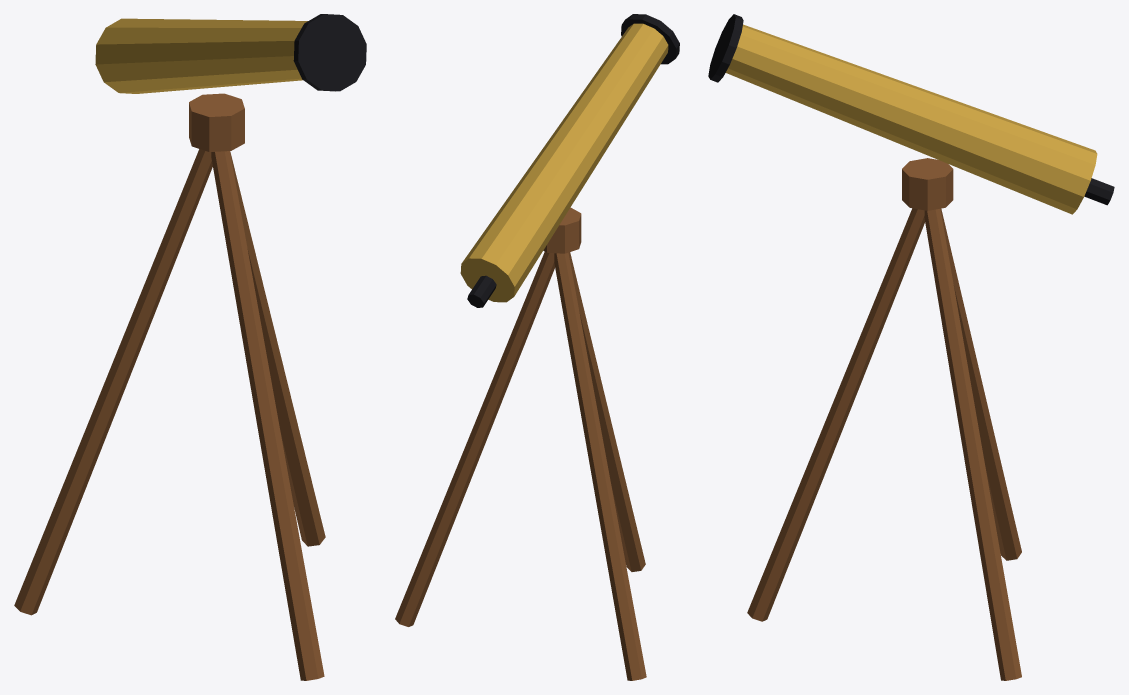
The model's file is spy_telescope.glb.
3 renders of one model, left to right at view 1: azimuth 30°, elevation 25°; view 2: azimuth 150°, elevation 25°; view 3: azimuth 270°, elevation 25°, orthographic. The views are drawn at different scales.
Visible parts, largest first — view 1: tripod_tripod_wood, tube_scope_brass, lens_scope_lens, head_tripod_wood; view 2: tripod_tripod_wood, tube_scope_brass, head_tripod_wood, lens_scope_lens, eyepiece_scope_lens; view 3: tube_scope_brass, tripod_tripod_wood, head_tripod_wood, lens_scope_lens.
Boxes of the visible parts, box(x1,y1,x2,y2) form: tripod_tripod_wood: box(14, 149, 325, 680); tube_scope_brass: box(95, 18, 307, 93); lens_scope_lens: box(293, 14, 366, 91); head_tripod_wood: box(189, 93, 244, 151); tripod_tripod_wood: box(395, 252, 646, 680); tube_scope_brass: box(460, 23, 668, 302); head_tripod_wood: box(543, 207, 581, 253); lens_scope_lens: box(621, 14, 679, 64); eyepiece_scope_lens: box(467, 275, 496, 307); tube_scope_brass: box(725, 24, 1097, 214); tripod_tripod_wood: box(747, 208, 1021, 680); head_tripod_wood: box(902, 158, 953, 210); lens_scope_lens: box(708, 14, 743, 82).
Bounding box in the file's own units: 0.731 × 1.55 × 0.9469.
